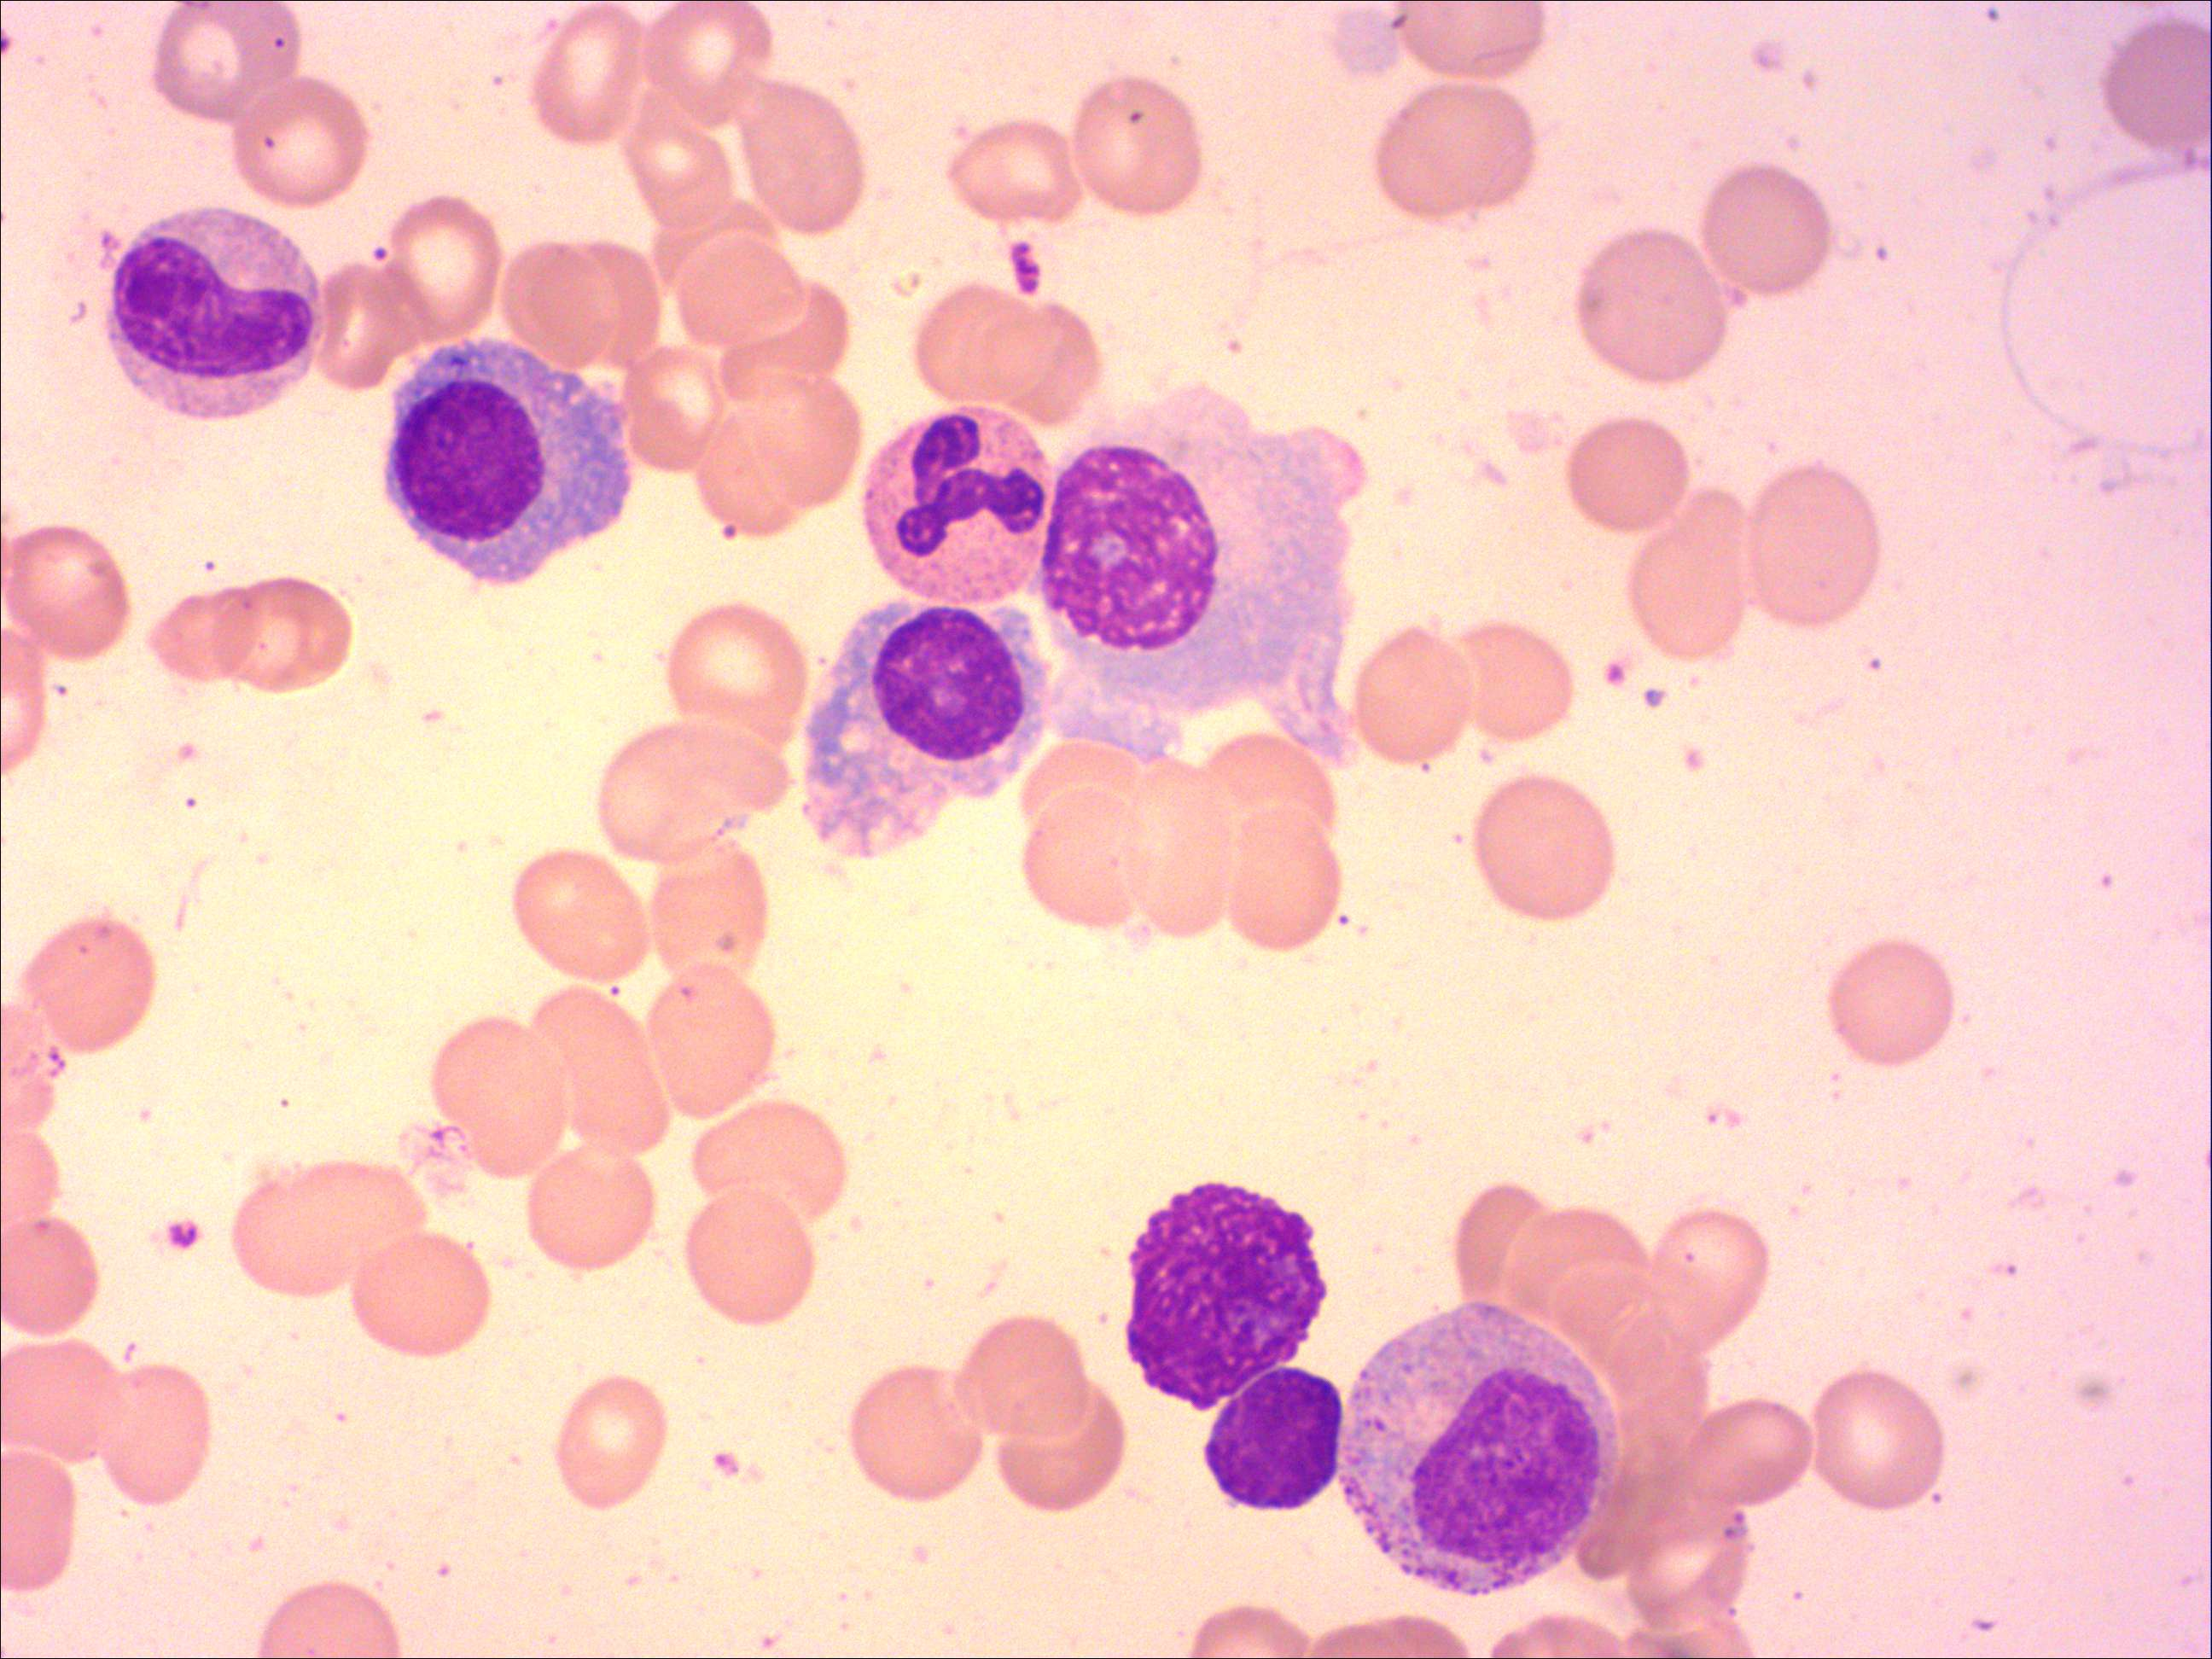3: (1334, 1298, 1623, 1601)
4: (101, 204, 334, 425)
51: (1036, 378, 1372, 781), (798, 594, 1057, 866), (378, 333, 634, 591)
6: (855, 399, 1061, 612)
x: (1118, 1180, 1331, 1417), (1197, 1363, 1346, 1516)
